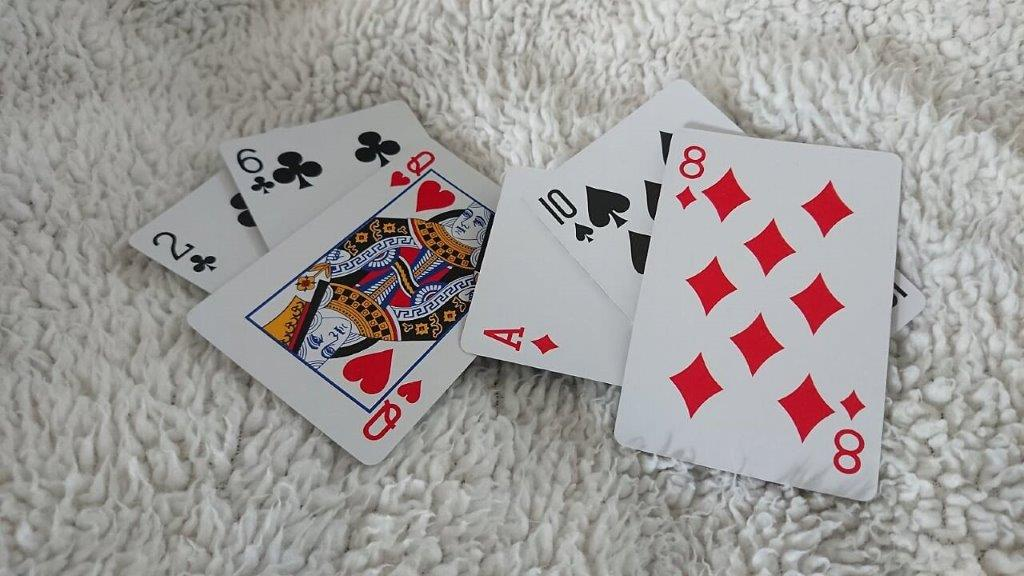10S: (530, 181, 599, 254)
2C: (144, 223, 222, 279)
6C: (229, 138, 284, 200)
8D: (670, 139, 716, 224)
QH: (382, 142, 441, 200)
